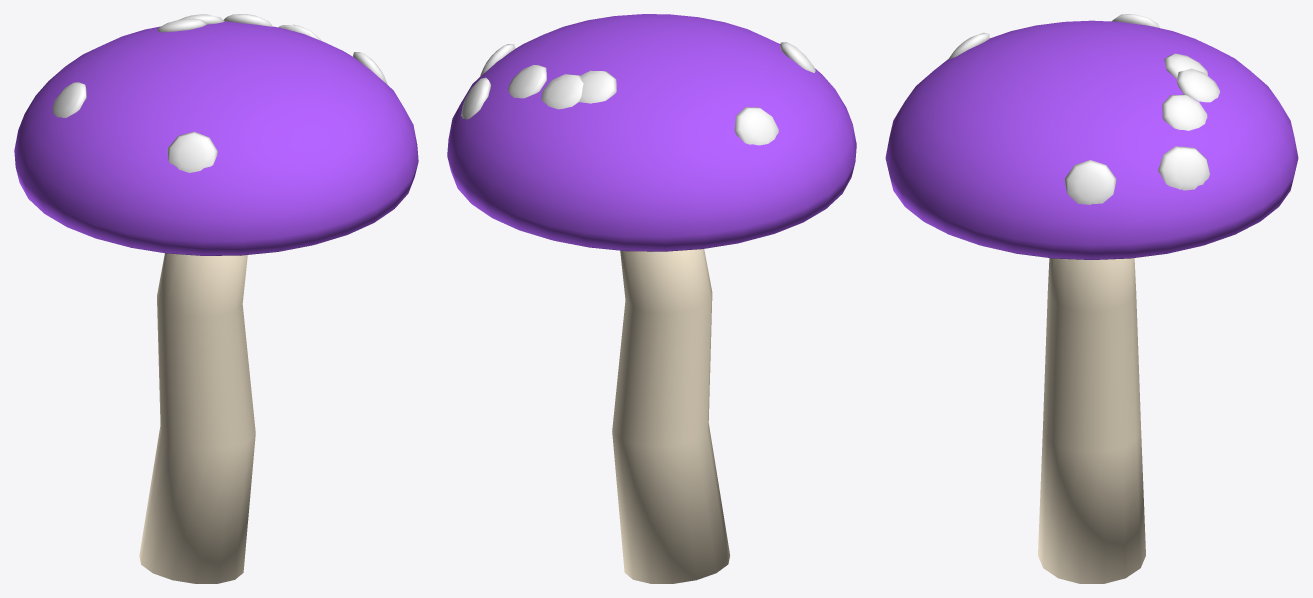
File: P_MushTree.fbx
3 renders of one model, left to right at view 1: azimuth 30°, elevation 25°; view 2: azimuth 150°, elevation 25°; view 3: azimuth 270°, elevation 25°, orthographic.
Visible parts, largest first — view 1: P_MushTree__Cap, P_MushTree__Stem, P_MushTree__Spot; view 2: P_MushTree__Cap, P_MushTree__Stem, P_MushTree__Spot; view 3: P_MushTree__Cap, P_MushTree__Stem, P_MushTree__Spot.
Part boxes in pixels (bbox=[...]): P_MushTree__Cap: bbox=[14, 21, 418, 255]; P_MushTree__Stem: bbox=[139, 253, 255, 583]; P_MushTree__Spot: bbox=[52, 14, 387, 172]; P_MushTree__Cap: bbox=[447, 14, 856, 251]; P_MushTree__Stem: bbox=[612, 249, 730, 583]; P_MushTree__Spot: bbox=[461, 42, 815, 145]; P_MushTree__Cap: bbox=[885, 20, 1298, 259]; P_MushTree__Stem: bbox=[1038, 258, 1145, 583]; P_MushTree__Spot: bbox=[948, 14, 1219, 204].
Size of the model in its own units: 8.4 by 11.74 by 8.4.
